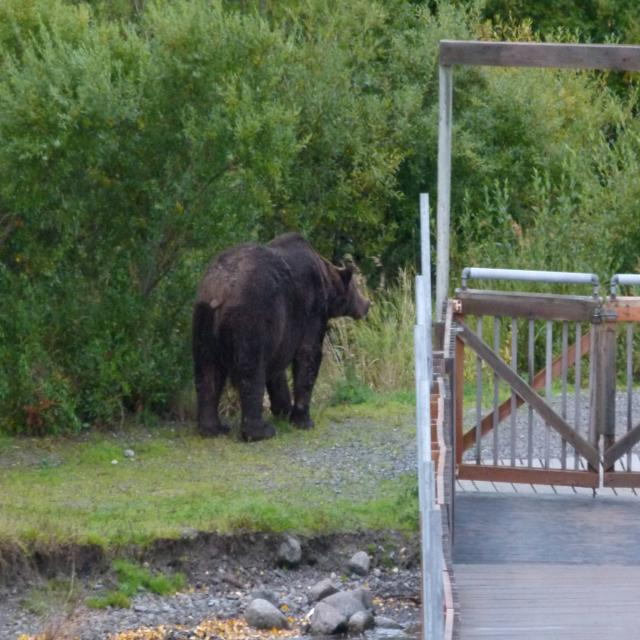bear face: (193, 233, 369, 442)
